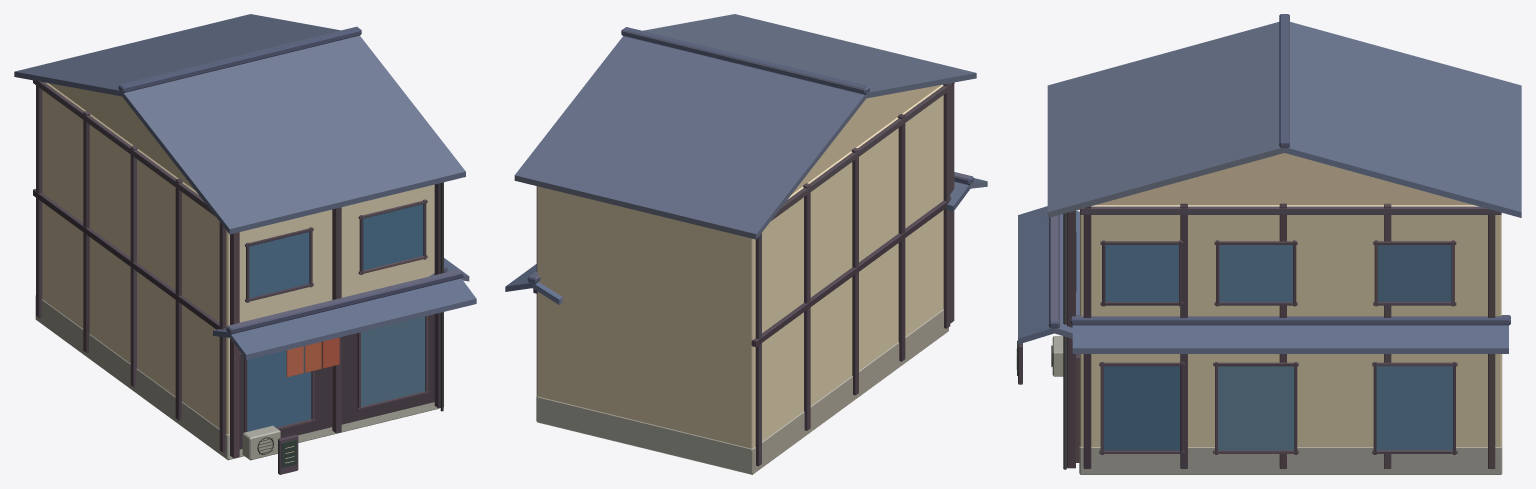
The model's file is ART_CornerShop.lod.glb.
3 views of the same model, side by side, from view 1: azimuth 30°, elevation 25°; view 2: azimuth 150°, elevation 25°; view 3: azimuth 270°, elevation 25° (orthographic). The views are drawn at different scales.
Parts seen in each view (by area): view 1: ART_CornerShop; view 2: ART_CornerShop; view 3: ART_CornerShop.
Boxes of the visible parts, x1,y1,x2,y2 form: ART_CornerShop: (14, 14, 476, 474); ART_CornerShop: (505, 14, 987, 474); ART_CornerShop: (1016, 14, 1521, 474).
Bounding box in the file's own units: 6.47 × 7.59 × 10.18.
